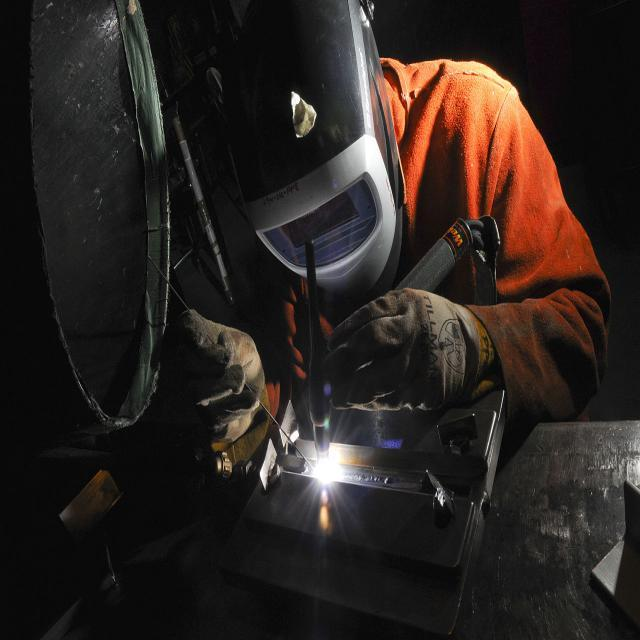with_helmet: (232, 0, 581, 294)
